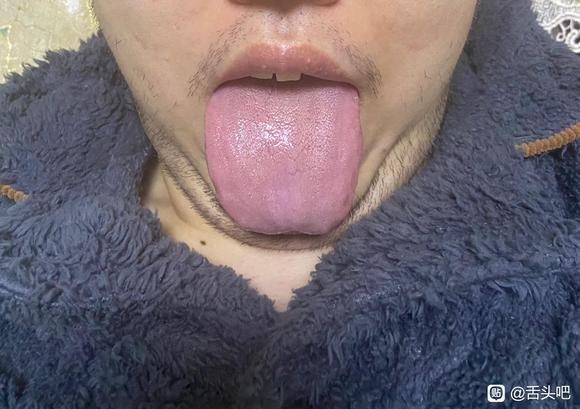baitaishe: (204, 78, 363, 234)
